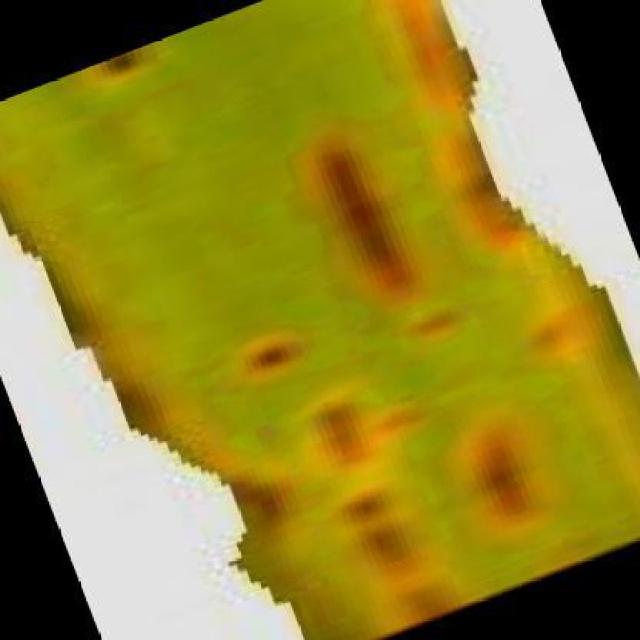Leaf_Blast: (373, 391, 584, 578), (290, 383, 438, 622), (291, 119, 403, 316), (345, 0, 497, 126), (416, 122, 550, 264), (168, 302, 308, 416), (484, 288, 621, 380), (48, 47, 152, 116), (365, 312, 460, 374)
